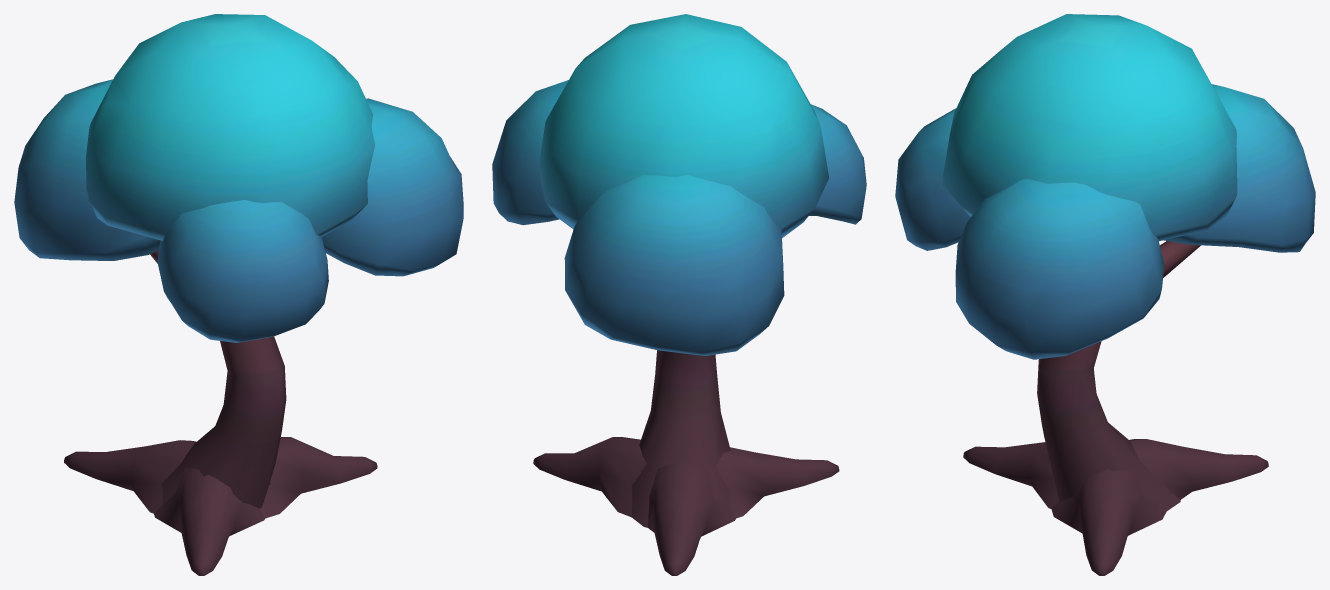
File: Tree_2.fbx
The picture shows the model from 3 angles, left to right: view 1: azimuth 30°, elevation 25°; view 2: azimuth 150°, elevation 25°; view 3: azimuth 270°, elevation 25°; orthographic projection. The views are drawn at different scales.
Visible parts, largest first — view 1: Tree_2; view 2: Tree_2; view 3: Tree_2.
Boxes of the visible parts, bbox=[...] form: Tree_2: bbox=[14, 14, 463, 575]; Tree_2: bbox=[492, 14, 866, 575]; Tree_2: bbox=[895, 14, 1315, 575].
Bounding box in the file's own units: 285 × 377 × 301.
